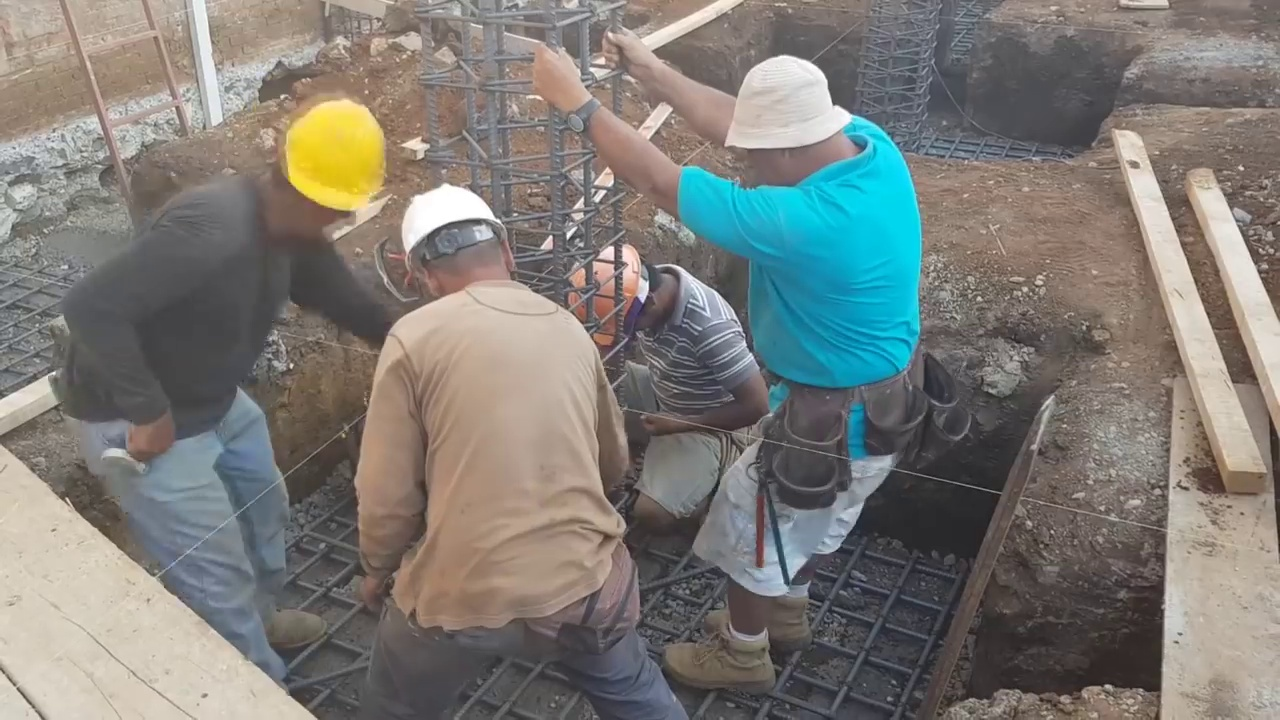helmet: (275, 100, 386, 209), (402, 183, 508, 276), (572, 243, 649, 333)
helmet-off: (724, 55, 872, 195)
helmet-on: (243, 100, 384, 247), (399, 180, 521, 304), (573, 239, 676, 335)
person: (532, 26, 923, 702), (55, 80, 399, 671), (333, 179, 692, 718), (577, 243, 771, 550)
